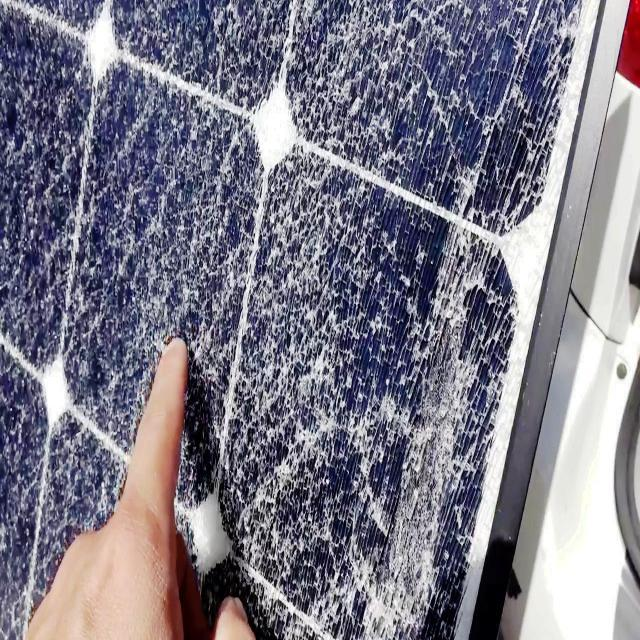faulty: (2, 4, 582, 638)
